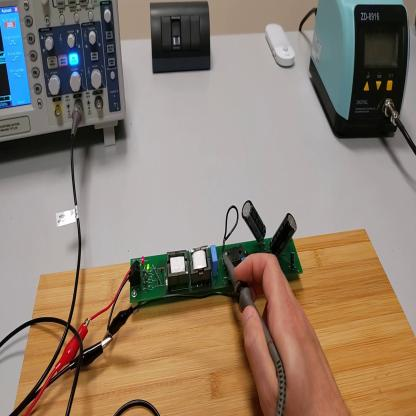hand: (232, 253, 347, 411)
high voltage board: (92, 194, 306, 339)
oscilloscope: (2, 1, 128, 146)
oscilloscope probe tip: (223, 252, 288, 416)
welder station: (309, 2, 412, 143)
working area: (14, 231, 415, 415)
